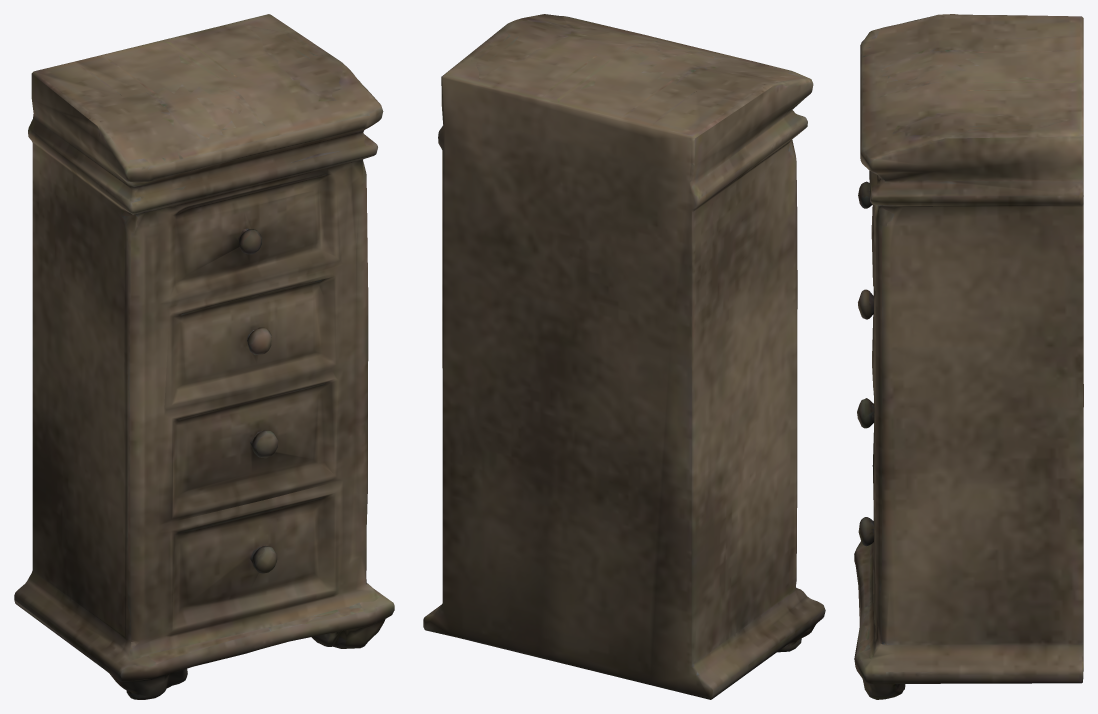
Rendered from ornate-wood-filing-cabinet-v002.glb.
The picture shows the model from 3 angles, left to right: view 1: azimuth 30°, elevation 25°; view 2: azimuth 150°, elevation 25°; view 3: azimuth 270°, elevation 25°; orthographic projection. The views are drawn at different scales.
Visible parts, largest first — view 1: ornate-wood-filing-cabinet; view 2: ornate-wood-filing-cabinet; view 3: ornate-wood-filing-cabinet.
Part boxes in pixels (<box>): ornate-wood-filing-cabinet: <box>14,14,394,699</box>; ornate-wood-filing-cabinet: <box>423,14,825,699</box>; ornate-wood-filing-cabinet: <box>854,14,1083,699</box>.
Size of the model in its own units: 0.7172 by 1.39 by 0.5057.
1 material, 1 textured.
